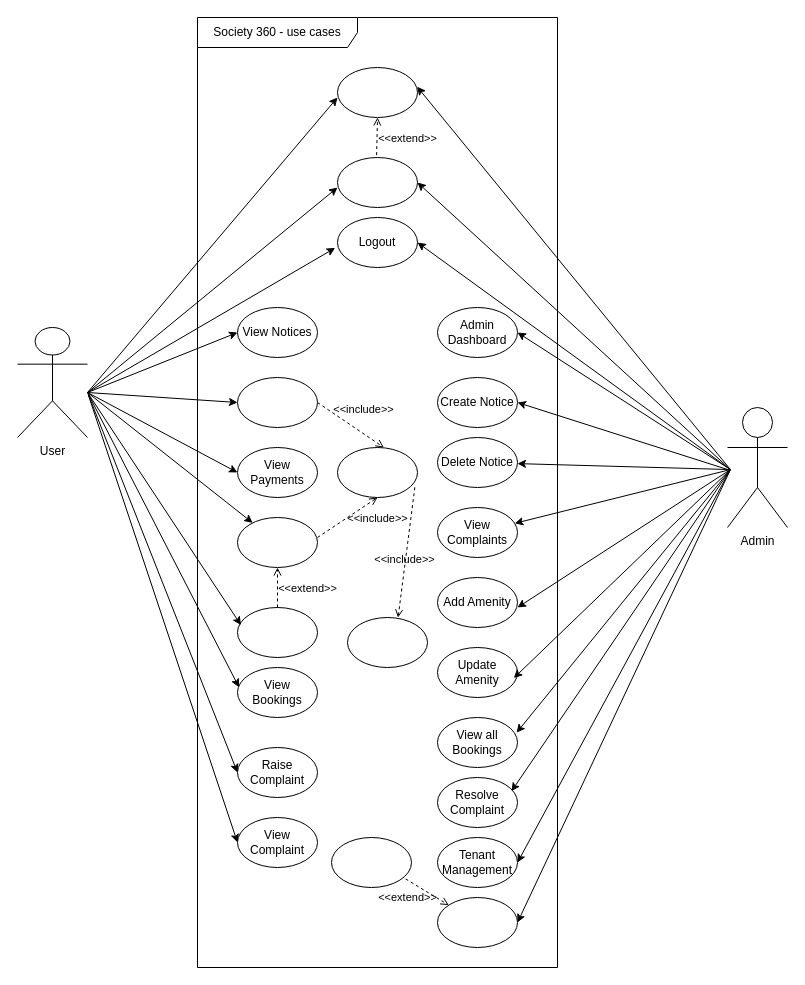
Image size: 805x985. Some labels were removed from this diagram. The shapes that lost their labels are listed below. From the top down, each one's centre as x and y in pixels, then its label:
At (x=377, y=92): "Login".
At (x=377, y=182): "Reset Password".
At (x=277, y=402): "Pay Maintenance".
At (x=377, y=472): "Process Payment".
At (x=277, y=542): "Book Amenity".
At (x=277, y=632): "Cancel Boooking".
At (x=387, y=642): "Send Notification".
At (x=371, y=862): "Filter Maintenance".
At (x=477, y=922): "Manage Maintenance".
